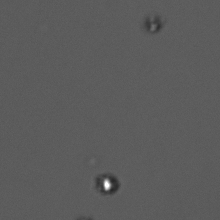Dead Cell: (145, 13, 163, 34)
Living Cell: (96, 172, 120, 195)
